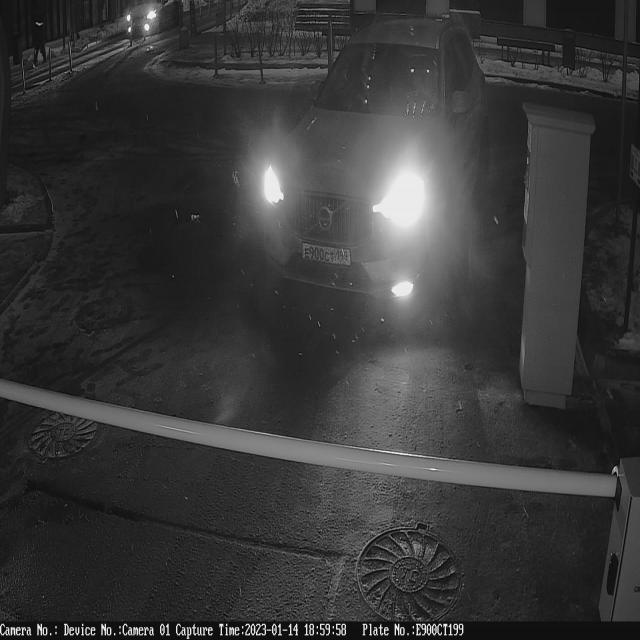car-plate-numbers: (300, 237, 354, 275)
